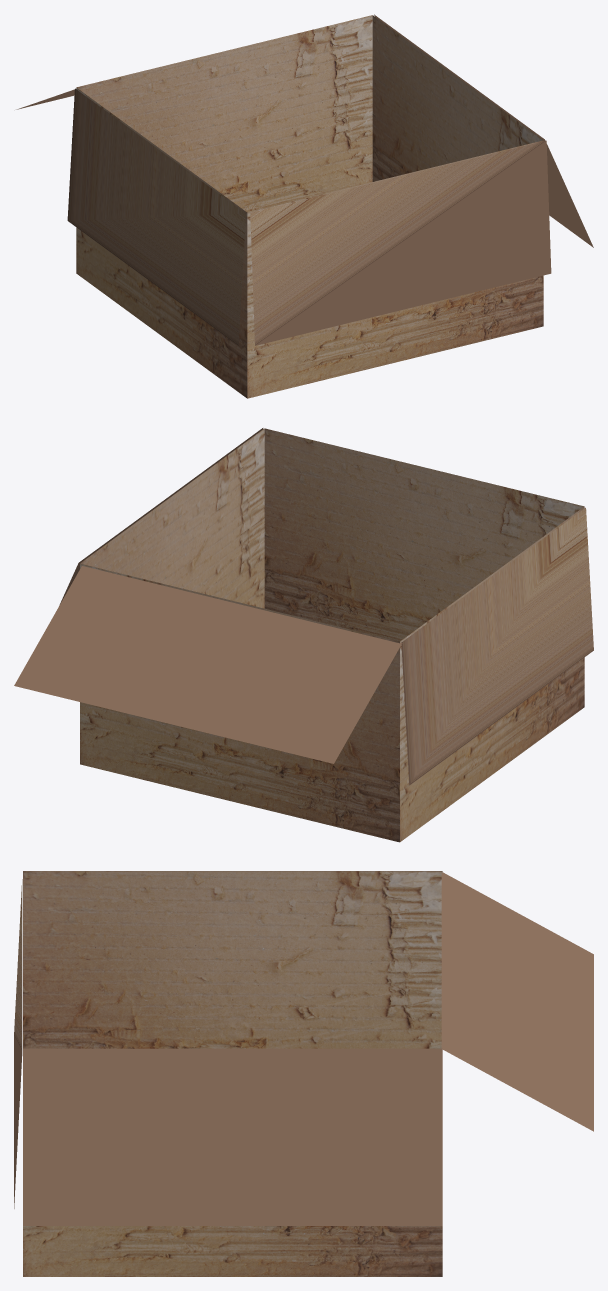
The model's file is CardbordBox.FBX.
The picture shows the model from 3 angles, top to bottom: view 1: azimuth 30°, elevation 25°; view 2: azimuth 150°, elevation 25°; view 3: azimuth 270°, elevation 25°; orthographic projection. The views are drawn at different scales.
Parts seen in each view (by area): view 1: Box001, three, four, two; view 2: Box001, one, four, two; view 3: Box001, two, one, three.
Part boxes in pixels (left/top/right/bottom): Box001: left=76, top=15, right=543, bottom=398; three: left=250, top=140, right=551, bottom=345; four: left=67, top=88, right=245, bottom=345; two: left=374, top=14, right=593, bottom=247; Box001: left=80, top=428, right=584, bottom=842; one: left=14, top=566, right=402, bottom=763; four: left=401, top=507, right=593, bottom=785; two: left=59, top=428, right=262, bottom=604; Box001: left=23, top=871, right=442, bottom=1276; two: left=23, top=1048, right=442, bottom=1225; one: left=441, top=872, right=593, bottom=1131; three: left=14, top=879, right=22, bottom=1208.
Bounding box in the file's own units: 23.6 × 11.84 × 27.2.
1 material, 1 textured.
